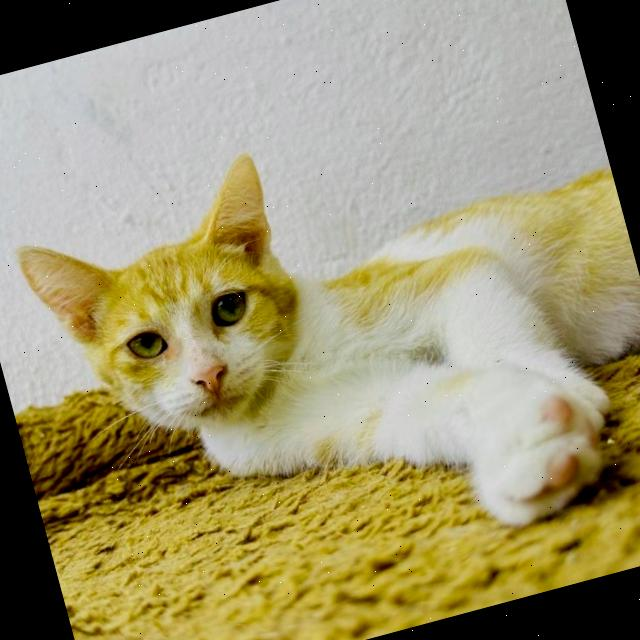american_shorthair_cat: (0, 129, 355, 526)
